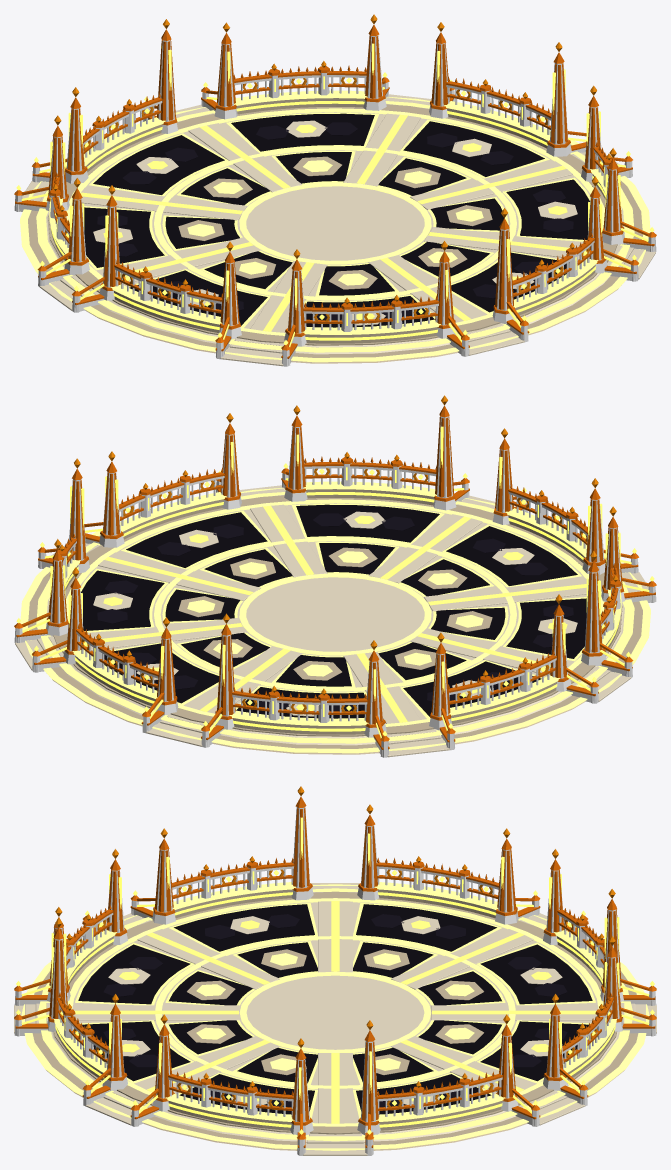
File: Hub_PlazaUndZaun.fbx
3 renders of one model, top to bottom at view 1: azimuth 30°, elevation 25°; view 2: azimuth 150°, elevation 25°; view 3: azimuth 270°, elevation 25°, orthographic.
Parts seen in each view (by area): view 1: Hub_Plaza_Sandstein, Hub_Plaza_Gold, Hub_Plaza_Schiefer, Hub_Zaun_Gold, Hub_Zaun_Schiefer, Hub_Plaza_Randstein, Hub_Plaza_HonigNeon, Hub_Zaun_HonigNeon; view 2: Hub_Plaza_Sandstein, Hub_Plaza_Gold, Hub_Plaza_Schiefer, Hub_Zaun_Gold, Hub_Zaun_Schiefer, Hub_Plaza_Randstein, Hub_Plaza_HonigNeon, Hub_Zaun_HonigNeon; view 3: Hub_Plaza_Sandstein, Hub_Plaza_Gold, Hub_Plaza_Schiefer, Hub_Zaun_Gold, Hub_Zaun_Schiefer, Hub_Plaza_Randstein, Hub_Plaza_HonigNeon, Hub_Zaun_HonigNeon.
Boxes of the visible parts, <box> form: Hub_Plaza_Sandstein: <box>22,94,655,366</box>; Hub_Plaza_Gold: <box>20,90,650,362</box>; Hub_Plaza_Schiefer: <box>84,113,589,327</box>; Hub_Zaun_Gold: <box>14,14,656,358</box>; Hub_Zaun_Schiefer: <box>14,35,656,366</box>; Hub_Plaza_Randstein: <box>28,98,642,363</box>; Hub_Plaza_HonigNeon: <box>50,101,605,340</box>; Hub_Zaun_HonigNeon: <box>16,43,654,347</box>; Hub_Plaza_Sandstein: <box>15,485,648,757</box>; Hub_Plaza_Gold: <box>20,481,650,753</box>; Hub_Plaza_Schiefer: <box>81,504,586,718</box>; Hub_Zaun_Gold: <box>14,395,656,749</box>; Hub_Zaun_Schiefer: <box>14,416,656,757</box>; Hub_Plaza_Randstein: <box>28,489,642,754</box>; Hub_Plaza_HonigNeon: <box>65,492,620,731</box>; Hub_Zaun_HonigNeon: <box>16,426,654,738</box>; Hub_Plaza_Sandstein: <box>14,883,656,1155</box>; Hub_Plaza_Gold: <box>21,882,649,1150</box>; Hub_Plaza_Schiefer: <box>78,904,592,1114</box>; Hub_Zaun_Gold: <box>14,786,656,1147</box>; Hub_Zaun_Schiefer: <box>14,807,656,1155</box>; Hub_Plaza_Randstein: <box>32,889,638,1150</box>; Hub_Plaza_HonigNeon: <box>55,892,615,1127</box>; Hub_Zaun_HonigNeon: <box>16,817,654,1134</box>.
Size of the model in its own units: 106 by 21.35 by 106.
